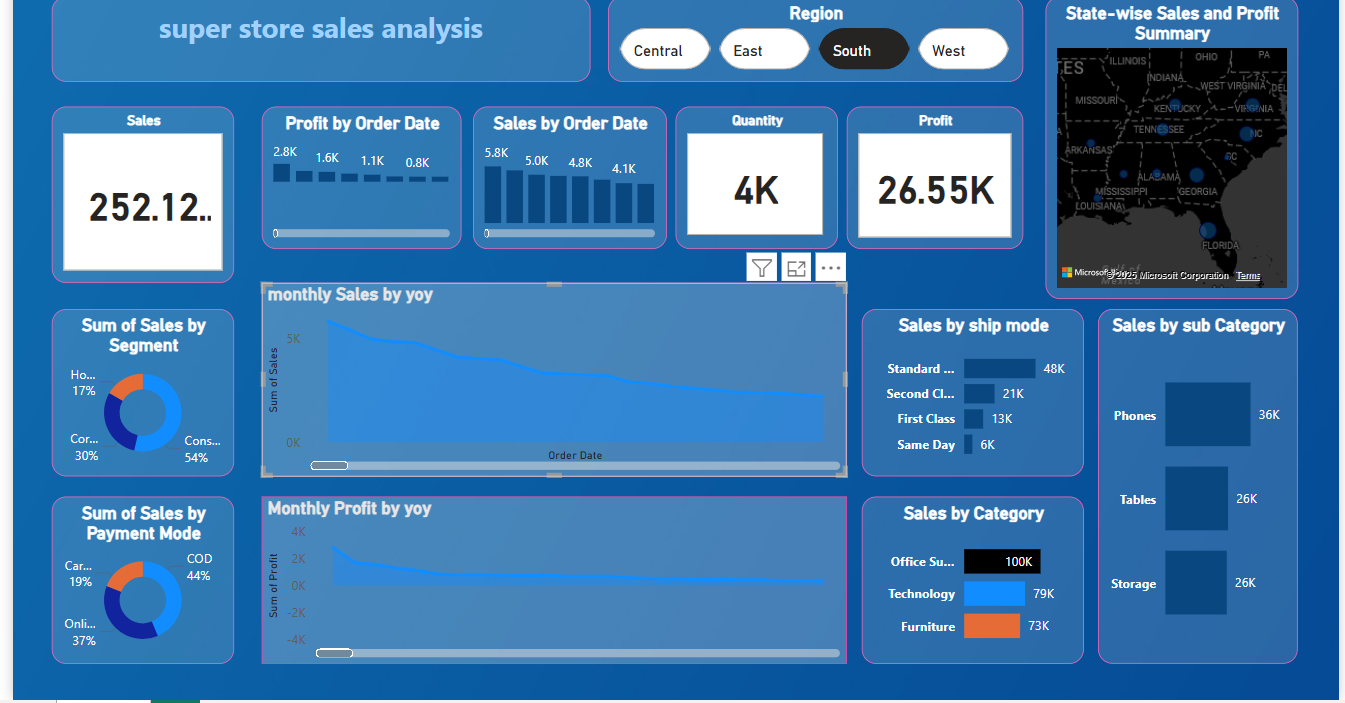

The page's visual inventory and layout, read from the dashboard file:
{"tool":"powerbi","page":{"name":"Page 1","canvas":[1280,720],"ordinal":0},"visuals":[{"type":"clusteredBarChart","title":" Sales by Category","fields":{"Category":["SuperStore_Sales_Dataset.Category"],"Y":["Sum(SuperStore_Sales_Dataset.Sales)"]},"box":[819.2,523.6,214.7,161.7],"z":0},{"type":"clusteredBarChart","title":" Sales by sub Category","fields":{"Category":["SuperStore_Sales_Dataset.Sub-Category"],"Y":["Sum(SuperStore_Sales_Dataset.Sales)"]},"box":[1047.2,342.6,193,342.6],"z":1000},{"type":"clusteredBarChart","title":" Sales by ship mode","fields":{"Category":["SuperStore_Sales_Dataset.Ship Mode"],"Y":["Sum(SuperStore_Sales_Dataset.Sales)"]},"box":[819.2,342.6,214.7,161.7],"z":2000},{"type":"stackedAreaChart","title":"monthly Sales by yoy","fields":{"Y":["Sum(SuperStore_Sales_Dataset.Sales)"],"Category":["SuperStore_Sales_Dataset.Order Date"]},"box":[240.1,317.3,564.6,187],"z":3000},{"type":"stackedAreaChart","title":"Monthly Profit by yoy","fields":{"Y":["Sum(SuperStore_Sales_Dataset.Profit)"],"Category":["SuperStore_Sales_Dataset.Order Date"]},"box":[240.1,523.6,564.6,161.7],"z":4000},{"type":"map","title":"State-wise Sales and Profit Summary","fields":{"Category":["SuperStore_Sales_Dataset.State"],"Size":["Sum(SuperStore_Sales_Dataset.Sales)"]},"box":[996.5,41,243.7,292],"z":5000},{"type":"donutChart","fields":{"Category":["SuperStore_Sales_Dataset.Segment"],"Y":["Sum(SuperStore_Sales_Dataset.Sales)"]},"box":[37.4,342.6,176.1,161.7],"z":6000},{"type":"donutChart","fields":{"Category":["SuperStore_Sales_Dataset.Payment Mode"],"Y":["Sum(SuperStore_Sales_Dataset.Sales)"]},"box":[37.4,523.6,176.1,161.7],"z":7000},{"type":"advancedSlicerVisual","fields":{"Values":["SuperStore_Sales_Dataset.Region"]},"box":[574.3,41,400.5,82],"z":8000},{"type":"textbox","box":[37.4,41,520,82],"z":9000},{"type":"cardVisual","title":"Sales","fields":{"Data":["Sum(SuperStore_Sales_Dataset.Sales)"]},"box":[37.4,147.2,176.1,170.1],"z":10000},{"type":"cardVisual","title":"Quantity","fields":{"Data":["Sum(SuperStore_Sales_Dataset.Quantity)"]},"box":[639.4,147.2,156.8,137.5],"z":11000},{"type":"cardVisual","title":"Profit","fields":{"Data":["Sum(SuperStore_Sales_Dataset.Profit)"]},"box":[804.7,147.2,170.1,137.5],"z":12000},{"type":"clusteredColumnChart","title":" Profit by Order Date","fields":{"Category":["SuperStore_Sales_Dataset.Order Date"],"Y":["Sum(SuperStore_Sales_Dataset.Profit)"]},"box":[240.1,147.2,193,137.5],"z":12001},{"type":"clusteredColumnChart","title":" Sales by Order Date","fields":{"Category":["SuperStore_Sales_Dataset.Order Date"],"Y":["Sum(SuperStore_Sales_Dataset.Sales)"]},"box":[444,147.2,187,137.5],"z":12002}]}

Visuals, with their boxes on the page's 1280x720 design canvas (x1, y1, x2, y2). These are canvas units, not pixel positions in the 1345x703 screenshot, which may show the page scaled, cropped or inside an application window:
" Sales by Category" clusteredBarChart: [left=819, top=524, right=1034, bottom=685]
" Sales by sub Category" clusteredBarChart: [left=1047, top=343, right=1240, bottom=685]
" Sales by ship mode" clusteredBarChart: [left=819, top=343, right=1034, bottom=504]
"monthly Sales by yoy" stackedAreaChart: [left=240, top=317, right=805, bottom=504]
"Monthly Profit by yoy" stackedAreaChart: [left=240, top=524, right=805, bottom=685]
"State-wise Sales and Profit Summary" map: [left=996, top=41, right=1240, bottom=333]
donutChart - SuperStore_Sales_Dataset.Segment x Sum(SuperStore_Sales_Dataset.Sales): [left=37, top=343, right=214, bottom=504]
donutChart - SuperStore_Sales_Dataset.Payment Mode x Sum(SuperStore_Sales_Dataset.Sales): [left=37, top=524, right=214, bottom=685]
advancedSlicerVisual - SuperStore_Sales_Dataset.Region: [left=574, top=41, right=975, bottom=123]
textbox: [left=37, top=41, right=557, bottom=123]
"Sales" cardVisual: [left=37, top=147, right=214, bottom=317]
"Quantity" cardVisual: [left=639, top=147, right=796, bottom=285]
"Profit" cardVisual: [left=805, top=147, right=975, bottom=285]
" Profit by Order Date" clusteredColumnChart: [left=240, top=147, right=433, bottom=285]
" Sales by Order Date" clusteredColumnChart: [left=444, top=147, right=631, bottom=285]
